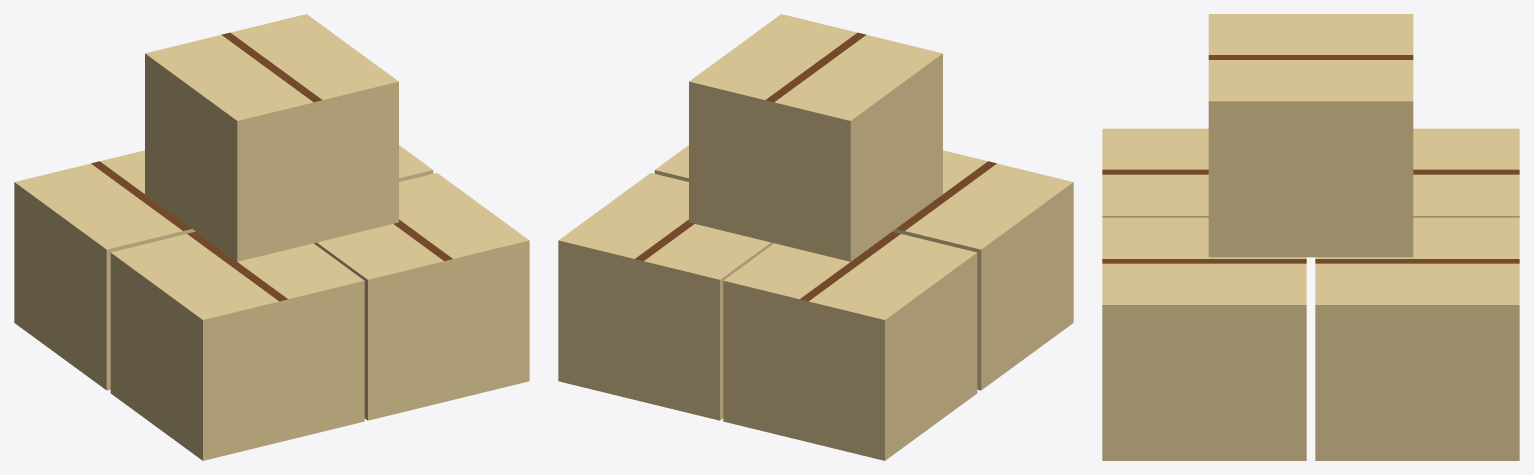
File: hay_stack.fbx
3 renders of one model, left to right at view 1: azimuth 30°, elevation 25°; view 2: azimuth 150°, elevation 25°; view 3: azimuth 270°, elevation 25°, orthographic. The views are drawn at different scales.
Visible parts, largest first — view 1: hay_stack; view 2: hay_stack; view 3: hay_stack.
Boxes of the visible parts, x1,y1,x2,y2 form: hay_stack: (14,14,529,460); hay_stack: (558,14,1073,460); hay_stack: (1102,14,1519,460).
Bounding box in the file's own units: 3 × 2.5 × 3.
